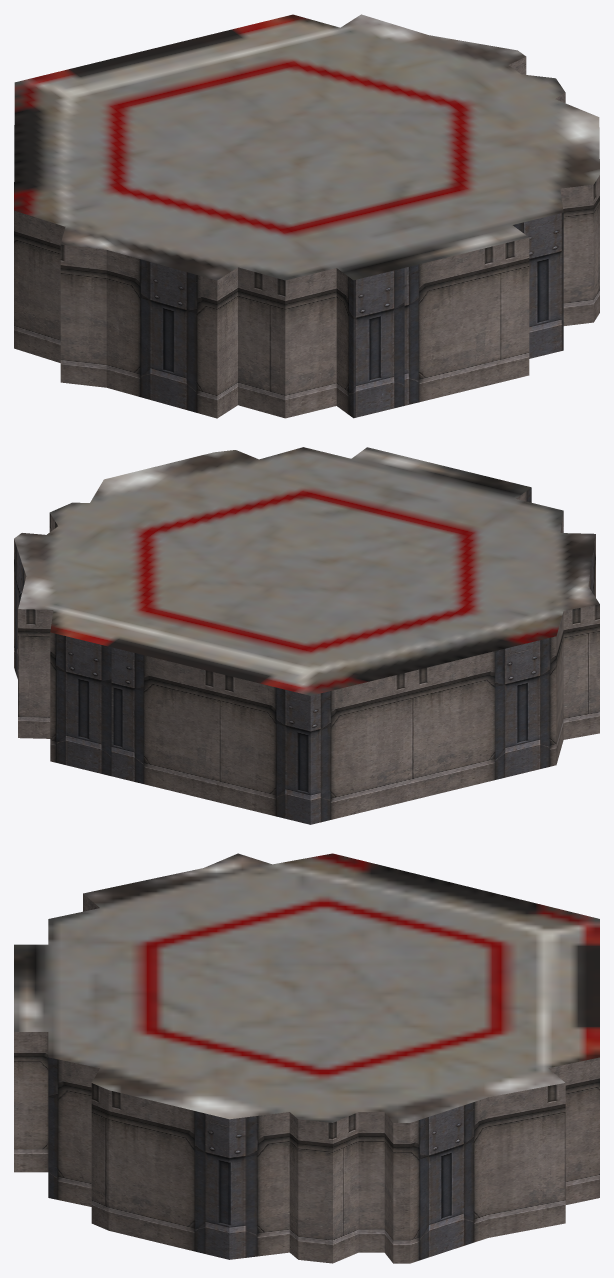
The model's file is bsealed_light_30.glb.
3 views of the same model, one above another, from view 1: azimuth 30°, elevation 25°; view 2: azimuth 150°, elevation 25°; view 3: azimuth 270°, elevation 25° (orthographic). The views are drawn at different scales.
Visible parts, largest first — view 1: buildings/saxarba/bsealed_light/bsealed_light_30; view 2: buildings/saxarba/bsealed_light/bsealed_light_30; view 3: buildings/saxarba/bsealed_light/bsealed_light_30.
Part boxes in pixels (x1,y1,x2,y2): buildings/saxarba/bsealed_light/bsealed_light_30: [14, 14, 599, 418]; buildings/saxarba/bsealed_light/bsealed_light_30: [14, 447, 599, 824]; buildings/saxarba/bsealed_light/bsealed_light_30: [14, 853, 599, 1263].
Size of the model in its own units: 74 by 18 by 68.
